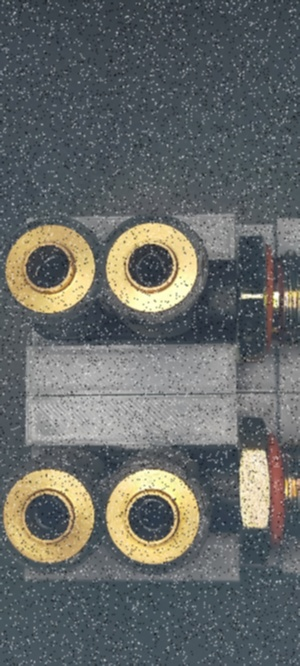bump: (196, 500, 211, 525), (179, 472, 194, 485)
off-centered: (127, 247, 174, 288), (28, 253, 69, 289)
white mark: (228, 492, 239, 504)
